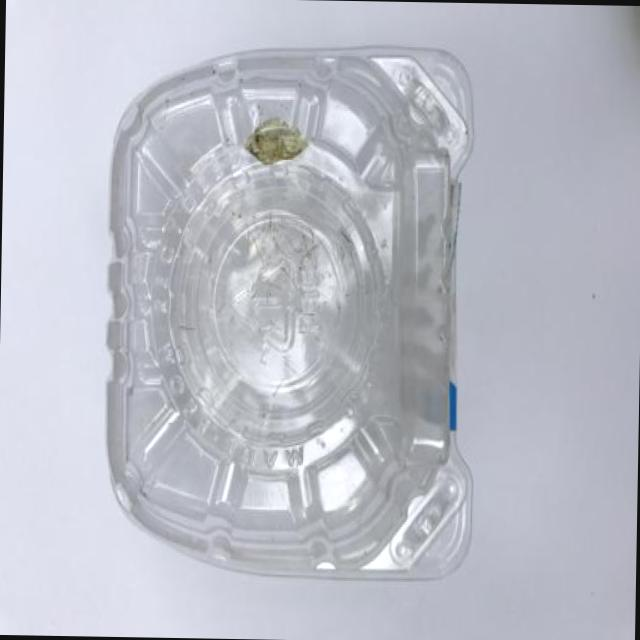Trash: (99, 39, 482, 582)
